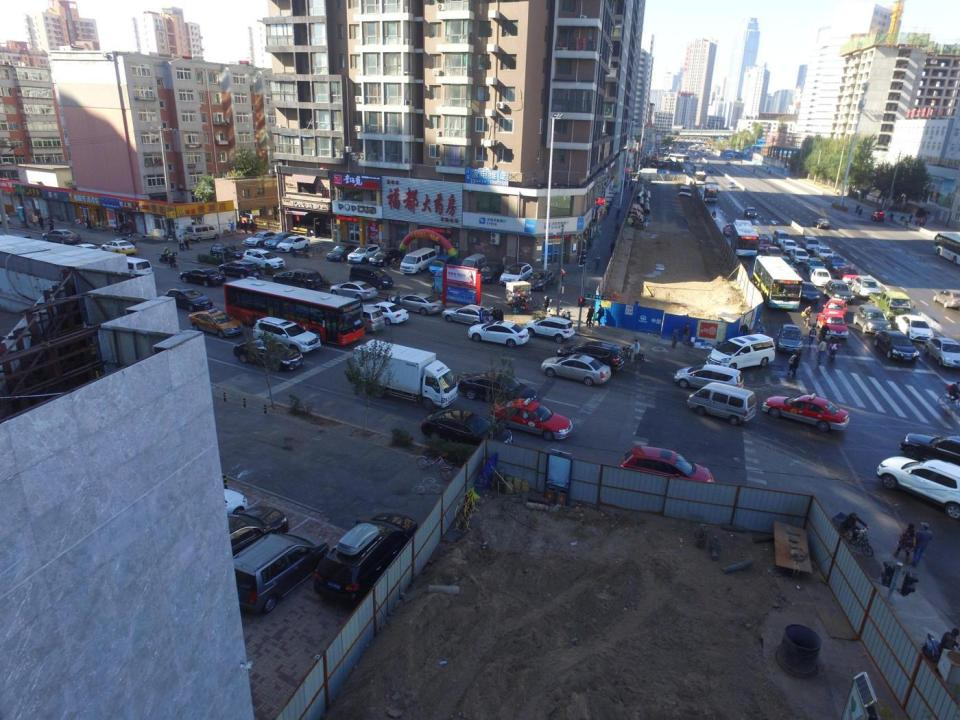bus: (750, 253, 802, 311), (730, 219, 760, 257), (931, 229, 960, 265), (704, 184, 719, 203), (669, 153, 691, 164), (694, 171, 707, 186), (692, 163, 705, 177)
car: (313, 510, 421, 611), (228, 527, 332, 617), (190, 506, 290, 569), (160, 483, 248, 550), (874, 453, 960, 520), (617, 446, 716, 501), (420, 407, 513, 453), (489, 397, 575, 441), (759, 391, 850, 432), (457, 368, 539, 411), (232, 337, 304, 372), (253, 316, 321, 353), (539, 355, 612, 386), (675, 363, 745, 394), (558, 340, 626, 371), (900, 431, 960, 466), (186, 309, 244, 338), (875, 328, 920, 365), (468, 321, 530, 347), (441, 303, 498, 329), (162, 288, 212, 315), (525, 316, 574, 343), (390, 291, 444, 315), (896, 314, 938, 344), (270, 267, 324, 290), (329, 277, 378, 302), (926, 336, 960, 370), (855, 304, 892, 335), (241, 248, 284, 274), (774, 323, 806, 357), (364, 301, 408, 324), (815, 310, 850, 338), (218, 259, 262, 281), (499, 260, 536, 286), (179, 266, 227, 286), (208, 243, 248, 267), (823, 279, 857, 304), (74, 242, 104, 270), (850, 274, 882, 299), (103, 238, 138, 260), (347, 244, 382, 265), (264, 231, 300, 250), (524, 270, 556, 291), (242, 230, 281, 247), (932, 287, 960, 310), (41, 229, 81, 245), (820, 297, 847, 320), (370, 247, 404, 265), (428, 256, 458, 276), (478, 262, 507, 282), (327, 244, 360, 261), (795, 280, 820, 302), (809, 267, 835, 288), (275, 236, 309, 252), (833, 264, 860, 284), (801, 233, 823, 253), (786, 266, 806, 286), (813, 244, 835, 262), (789, 247, 811, 265), (804, 256, 826, 273), (825, 254, 847, 271), (764, 246, 786, 261), (755, 234, 772, 252), (780, 239, 799, 253), (775, 254, 793, 268), (722, 220, 737, 235), (814, 216, 830, 230), (870, 208, 885, 222), (742, 207, 759, 219), (726, 180, 737, 189), (706, 166, 714, 174), (690, 165, 696, 171), (725, 160, 731, 166), (697, 158, 702, 164), (659, 150, 663, 154)
truck: (348, 335, 460, 409), (870, 287, 910, 322)
van: (685, 381, 756, 427), (708, 333, 776, 372), (331, 298, 384, 332), (347, 263, 394, 293), (111, 252, 152, 282), (401, 246, 438, 274), (184, 223, 221, 241), (461, 253, 488, 276), (772, 228, 790, 247)
